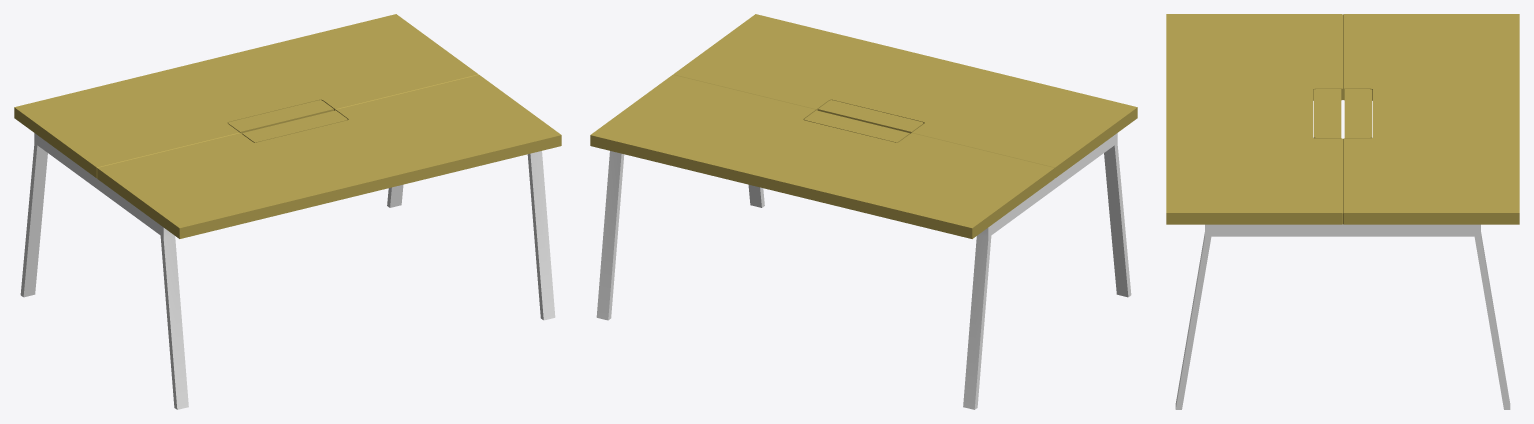
File: large_table.glb
The picture shows the model from 3 angles, left to right: view 1: azimuth 30°, elevation 25°; view 2: azimuth 150°, elevation 25°; view 3: azimuth 270°, elevation 25°; orthographic projection. The views are drawn at different scales.
Parts seen in each view (by area): view 1: large table; view 2: large table; view 3: large table.
Part boxes in pixels (box(x1,y1,x2,y2)): large table: box(14, 14, 561, 409); large table: box(590, 14, 1137, 409); large table: box(1166, 14, 1519, 409).
Bounding box in the file's own units: 1.6 × 0.7418 × 1.2.
